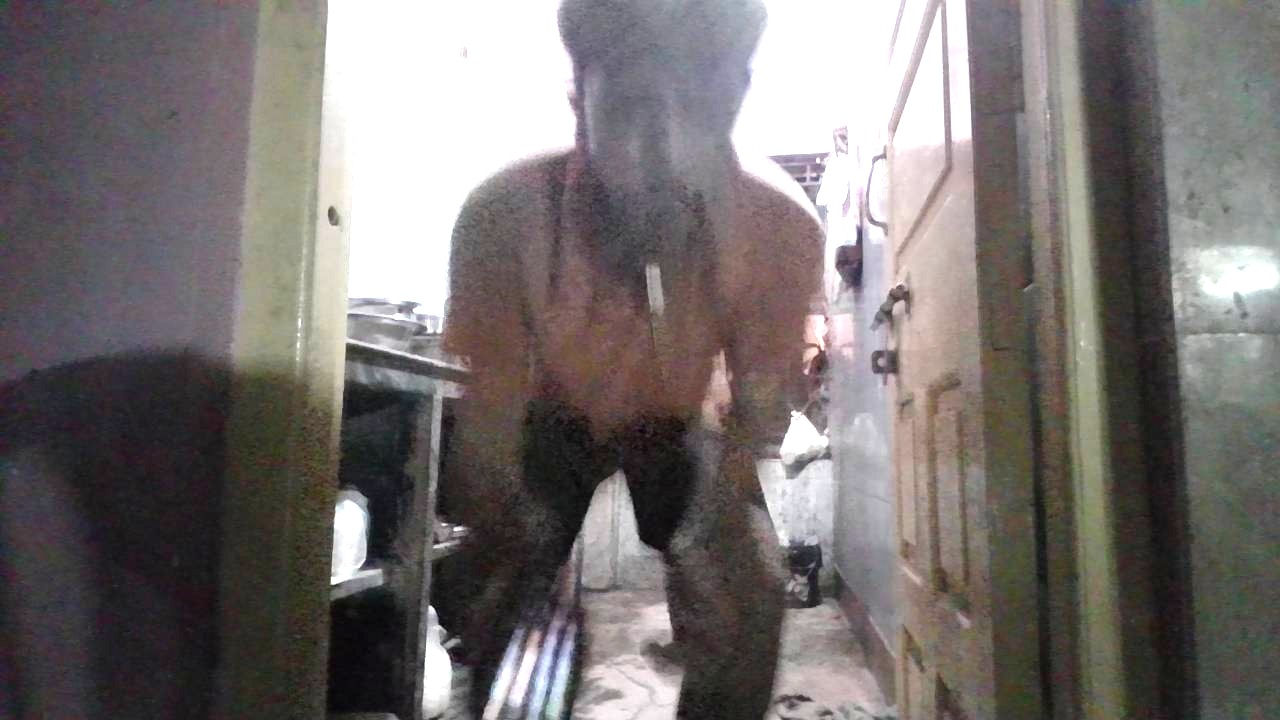red_box: (618, 344, 679, 407)
